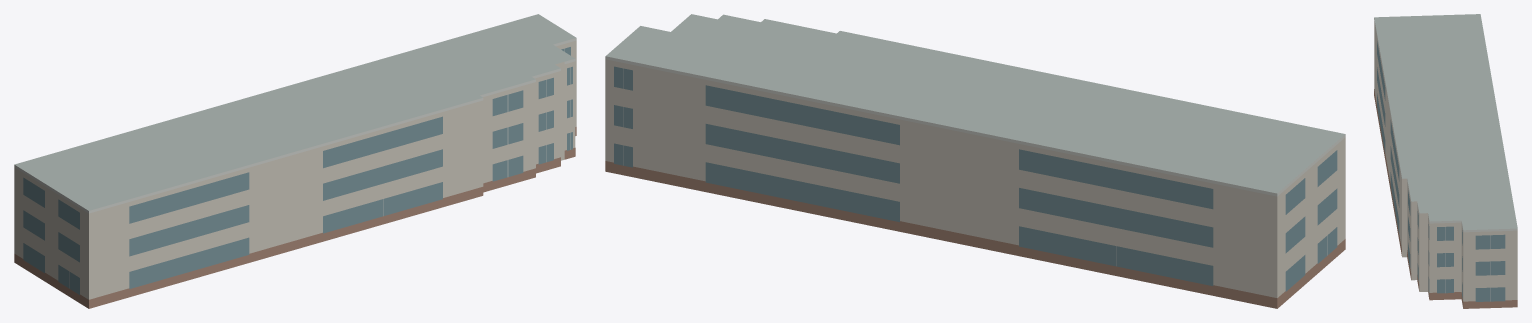
File: survey-upis-32996175.glb
3 renders of one model, left to right at view 1: azimuth 30°, elevation 25°; view 2: azimuth 150°, elevation 25°; view 3: azimuth 270°, elevation 25°, orthographic. The views are drawn at different scales.
Visible parts, largest first — view 1: survey-upis-32996175.tmp; view 2: survey-upis-32996175.tmp; view 3: survey-upis-32996175.tmp.
Boxes of the visible parts, x1,y1,x2,y2 form: survey-upis-32996175.tmp: (14,14,576,308); survey-upis-32996175.tmp: (605,14,1345,308); survey-upis-32996175.tmp: (1374,14,1517,308).
Size of the model in its own units: 53.92 by 9.15 by 15.15.
